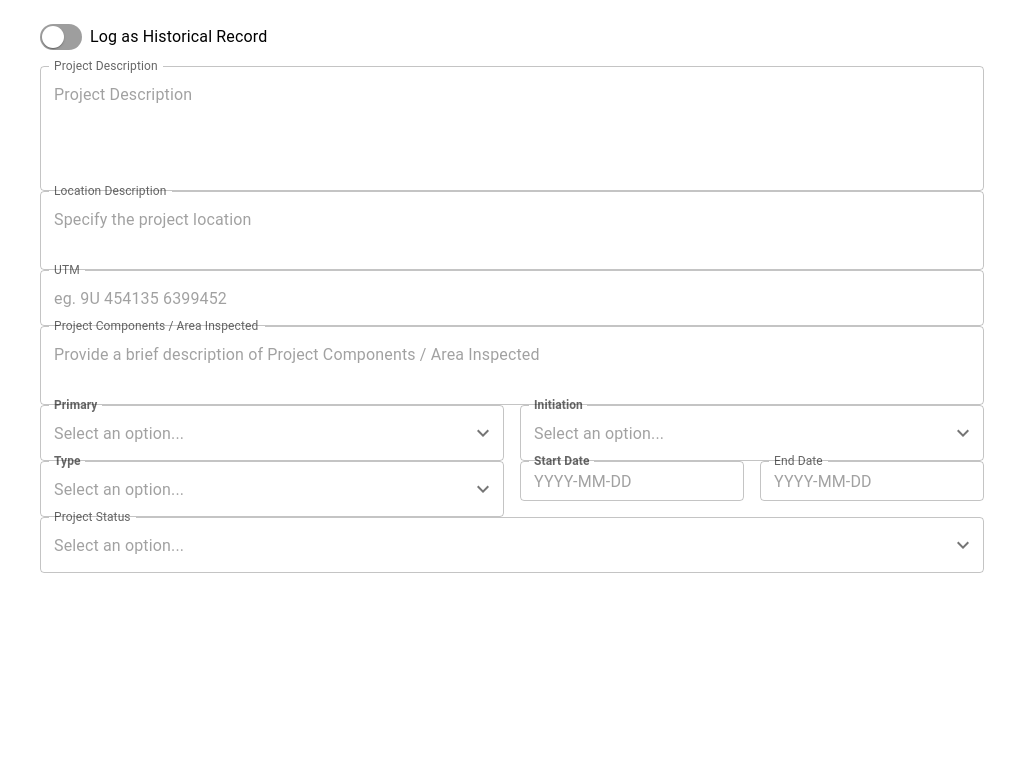
Test: InspectionFormLeft Component › allows selecting multiple IR types
What coordinates should you click on to do the following:
click the dropdown named "irTypes"
I would click on:
 (257, 489)
Its box is left=49, top=470, right=465, bottom=508.
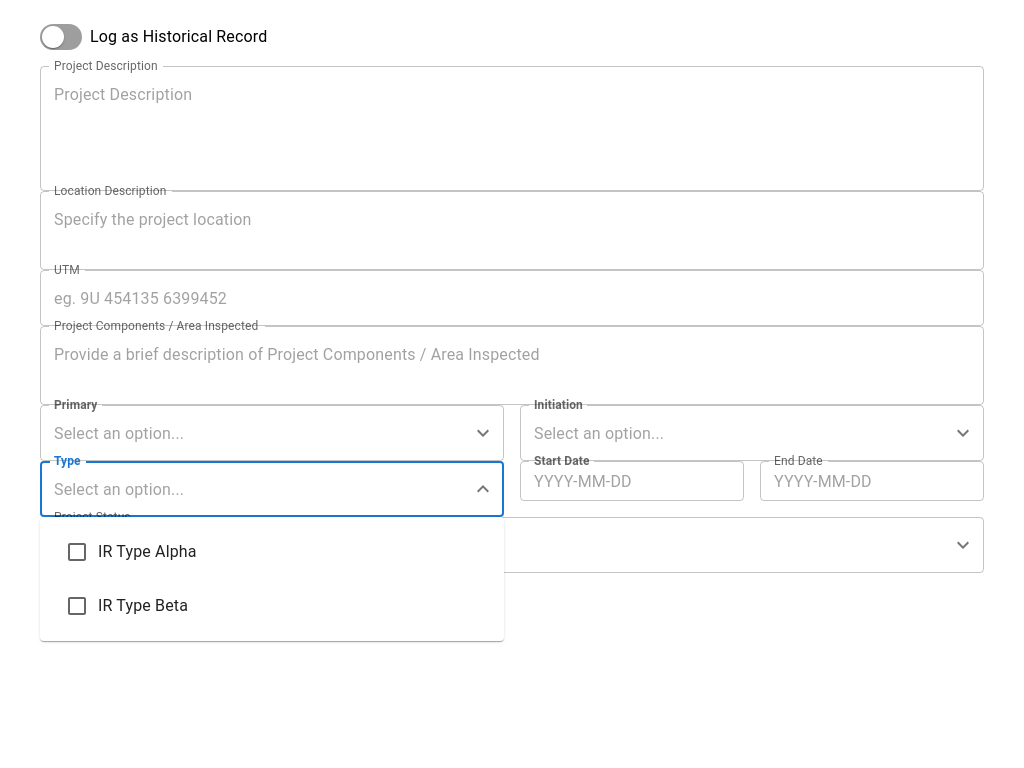
What coordinates should you click on to do the following:
click the text "IR Type Alpha"
I would click on:
 (131, 552)
Its box is left=65, top=540, right=197, bottom=564.
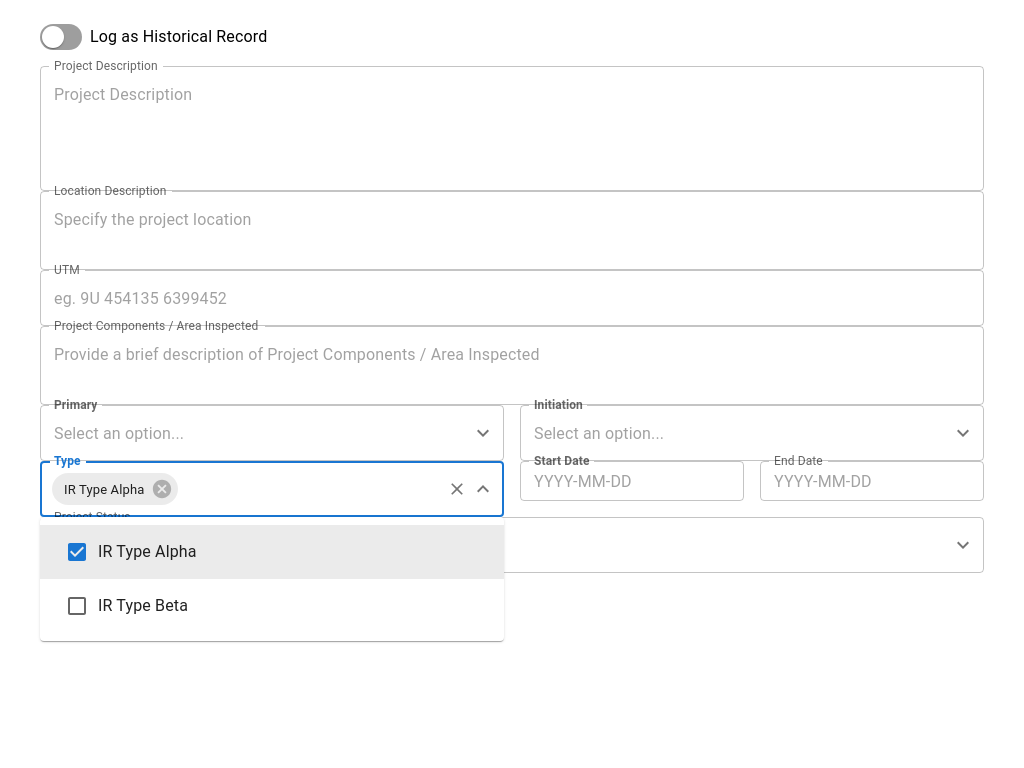
What coordinates should you click on to do the following:
click the text "IR Type Beta"
I would click on:
 (127, 606)
Its box is left=65, top=594, right=188, bottom=618.
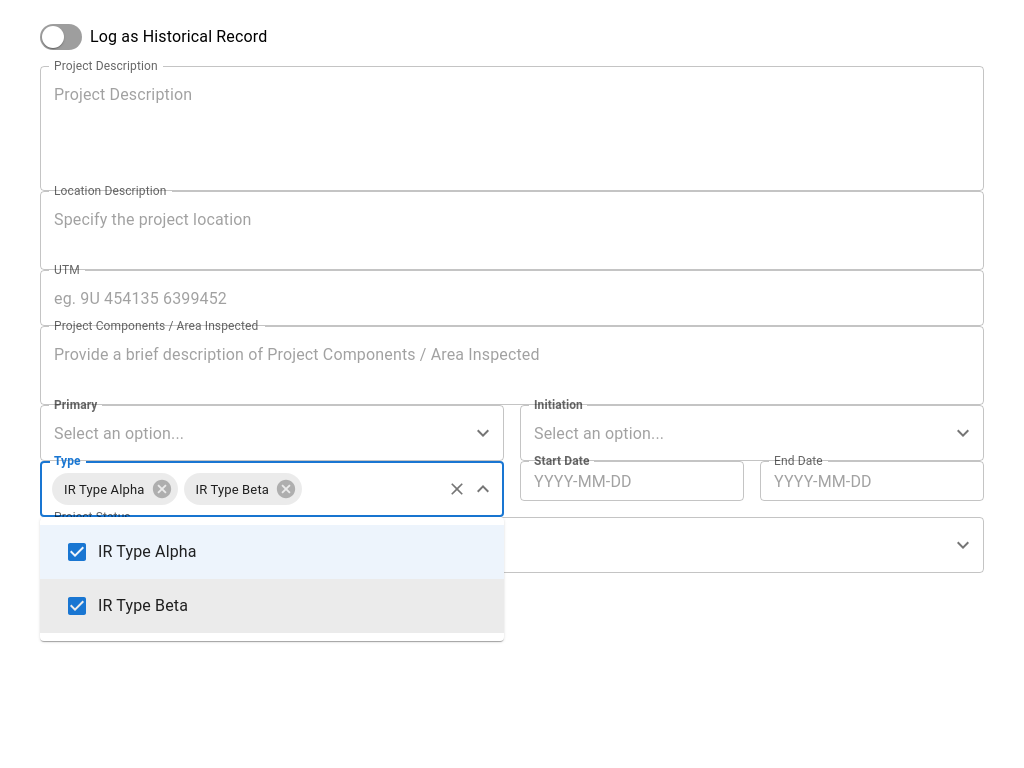
Now the button "IR Type Alpha" is shown, box left=52, top=473, right=178, bottom=505
Now the button "IR Type Beta" is shown, box left=184, top=473, right=302, bottom=505
